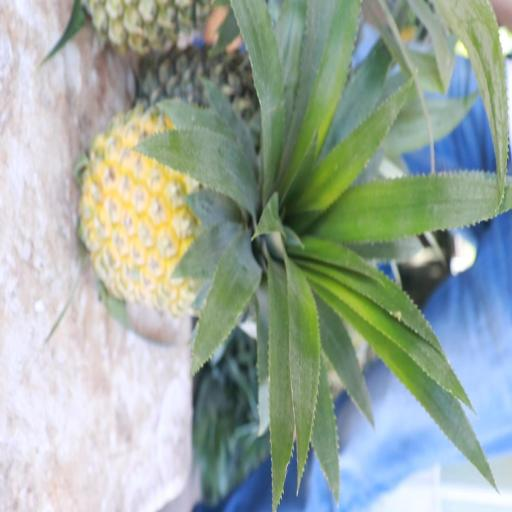Pineapple - v8 v1: (85, 104, 306, 310)
